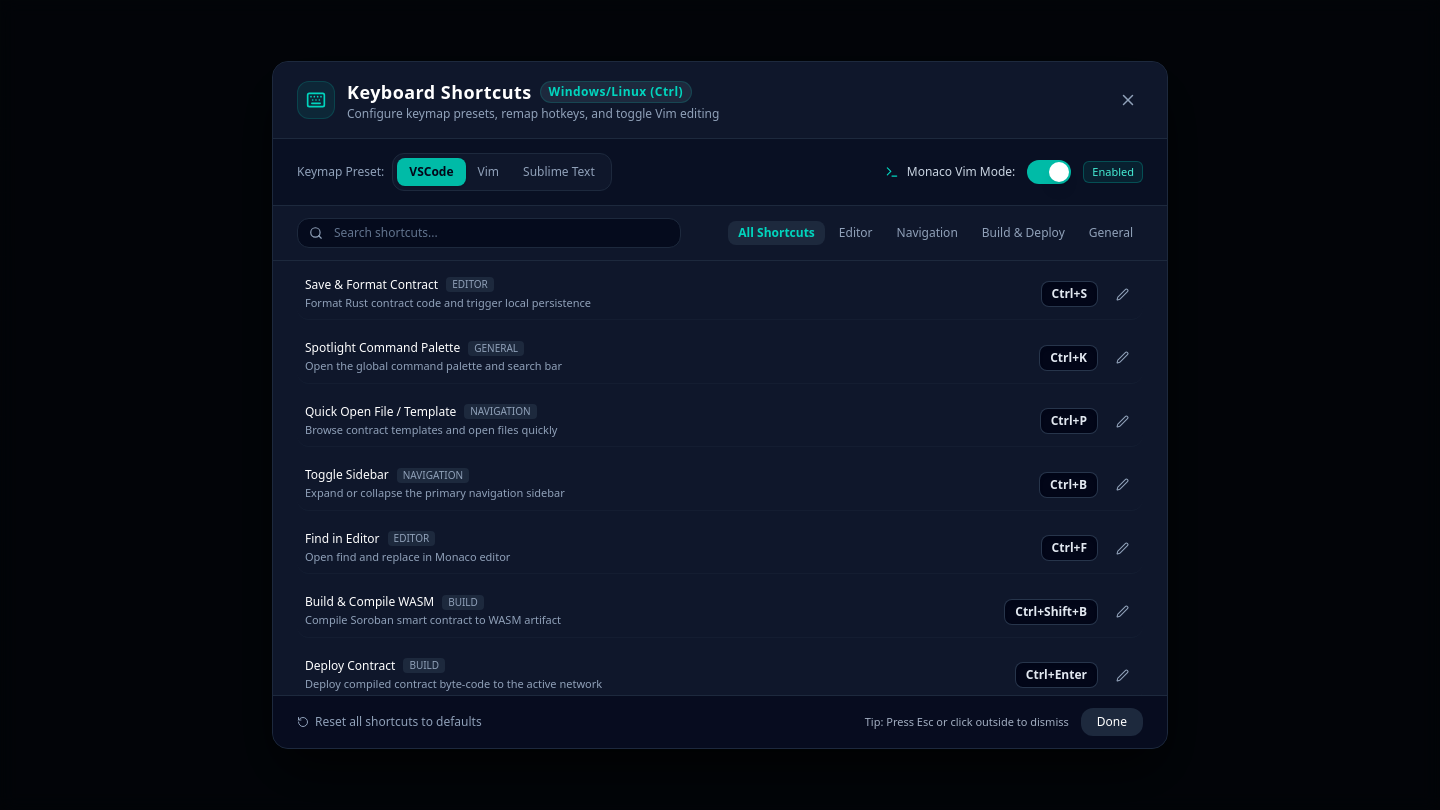
Test: KeyboardShortcutsModal (#2077) › filters shortcuts by category tab
Click the button "Build & Deploy" at point(1023, 233), box [972,221,1075,245]
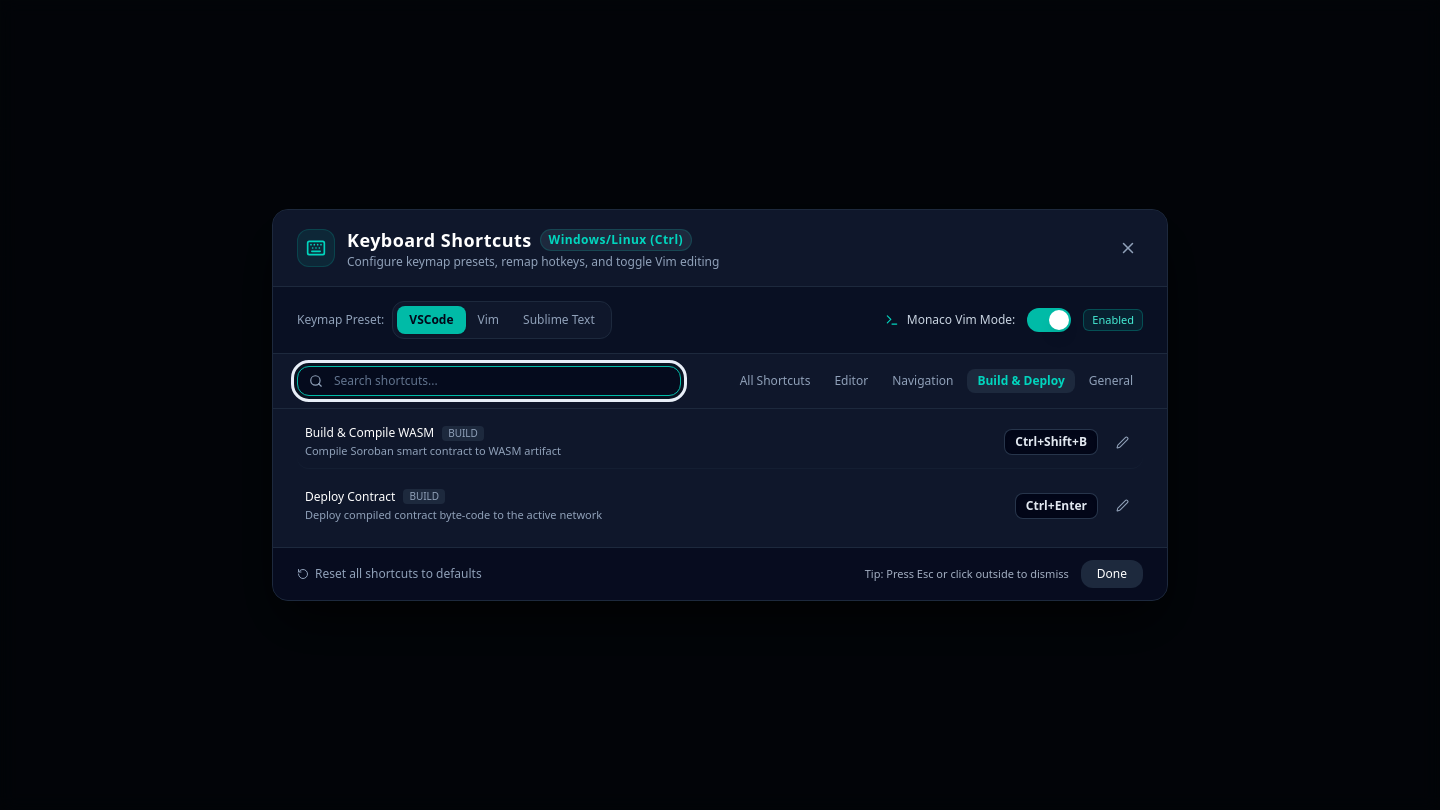
expect the text "Build & Compile WASM" is shown: met, box [305,425,434,441]
expect the text "Toggle Sidebar" is gone: met
